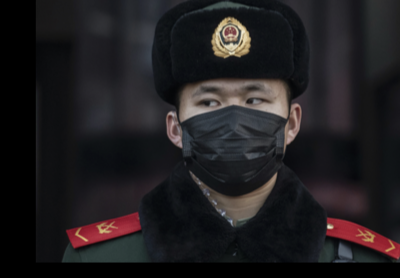with_mask: (178, 81, 290, 195)
